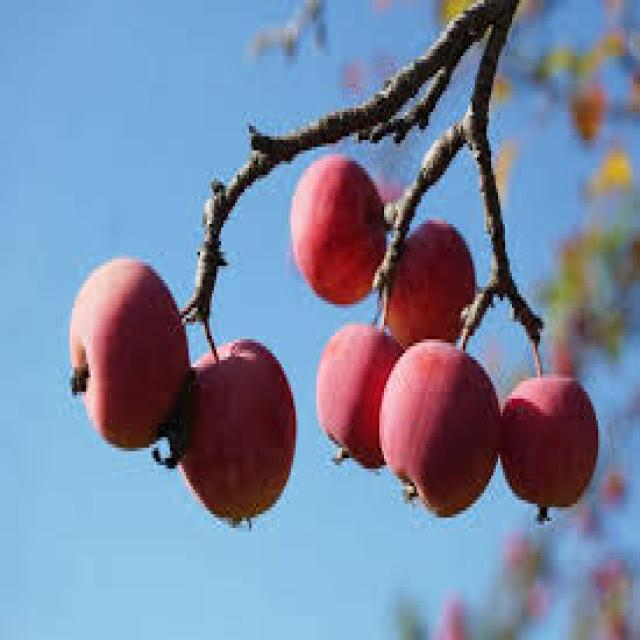non_orange: (54, 216, 204, 495), (164, 307, 296, 544), (374, 285, 497, 532), (272, 127, 404, 332), (484, 342, 614, 543), (294, 285, 407, 469), (360, 176, 478, 347)
